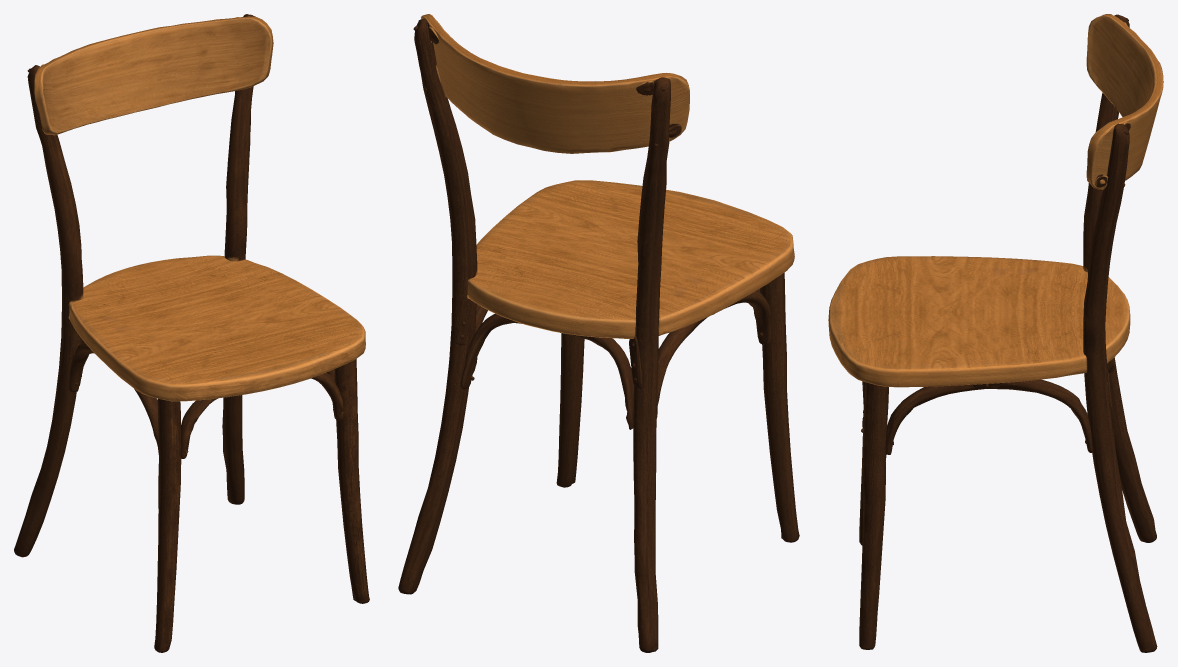
File: ck_chair-original.glb
3 views of the same model, side by side, from view 1: azimuth 30°, elevation 25°; view 2: azimuth 150°, elevation 25°; view 3: azimuth 270°, elevation 25° (orthographic). The views are drawn at different scales.
Size of the model in its own units: 0.4751 by 0.9502 by 0.5479.
1 material, 1 textured.
